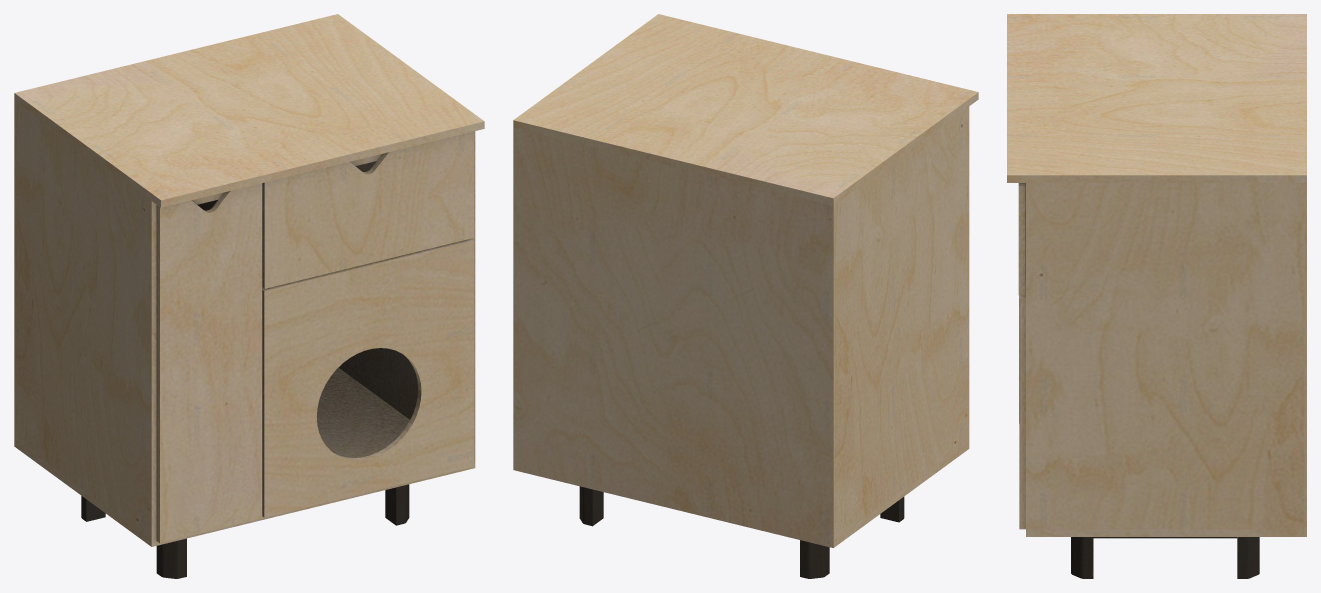
File: rachel.gltf
3 renders of one model, left to right at view 1: azimuth 30°, elevation 25°; view 2: azimuth 150°, elevation 25°; view 3: azimuth 270°, elevation 25°, orthographic. The views are drawn at different scales.
Parts seen in each view (by area): view 1: Movelito MOvelito v1 Fundo Menor MOvelito v1.017; view 2: Movelito MOvelito v1 Fundo Menor MOvelito v1.017; view 3: Movelito MOvelito v1 Fundo Menor MOvelito v1.017.
Boxes of the visible parts, x1,y1,x2,y2 form: Movelito MOvelito v1 Fundo Menor MOvelito v1.017: (14, 14, 484, 578); Movelito MOvelito v1 Fundo Menor MOvelito v1.017: (513, 14, 978, 578); Movelito MOvelito v1 Fundo Menor MOvelito v1.017: (1007, 14, 1306, 578).
Size of the model in its own units: 0.68 by 0.83 by 0.534.
1 material, 1 textured.
